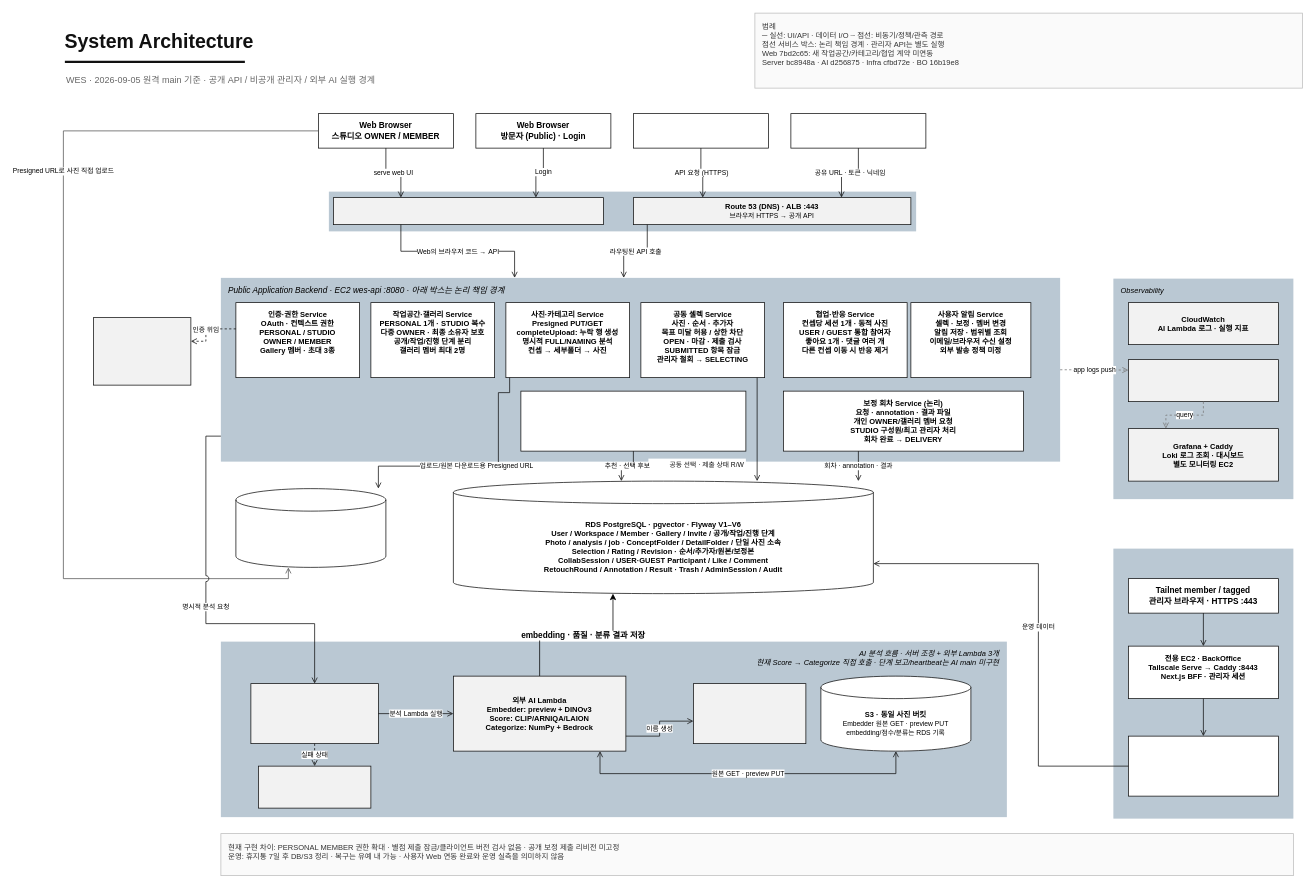
This 1316x889 diagram has some shape labels left out. Here are the shapes that lost their labels. From the top down, the box of each, then its label:
(633, 113, 768, 148): Web Browser PERSONAL OWNER / GALLERY_MEMBER
(790, 113, 926, 148): Web Browser 게스트 · URL + 토큰 + 닉네임
(333, 197, 603, 225): Next.js Web · Vercel 정적 Web UI · AWS 외부 호스팅
(93, 317, 191, 385): OAuth IdP 카카오·구글·네이버 인증 위임
(1128, 359, 1278, 402): Loki 로그 수집 · 저장
(520, 390, 746, 451): AI 추천 · 비교 Service (Kotlin) 저장된 분석 신호 + Bedrock 수동 선택 보존 · 사용자 수락 자동 제출 없음
(235, 488, 386, 567): S3 · 사진 오브젝트 원본 · preview · retouch 브라우저 직접 PUT/GET · SSE-S3
(1113, 548, 1293, 818): Tailnet · 비공개 운영
(250, 683, 378, 744): AnalysisOrchestrator 서버 job commit 후 호출 FULL / NAMING · 재시도
(693, 683, 806, 744): Bedrock Runtime 컨셉 이름 생성 서버 추천/비교 모델
(1128, 735, 1278, 796): wes-admin-api :8081 Docker 내부 · 공개 ALB 제외 변경 사유/버전/멱등성 · 감사
(258, 765, 371, 808): DB 분석 작업 상태 실패 · 재시도/복구 추적
